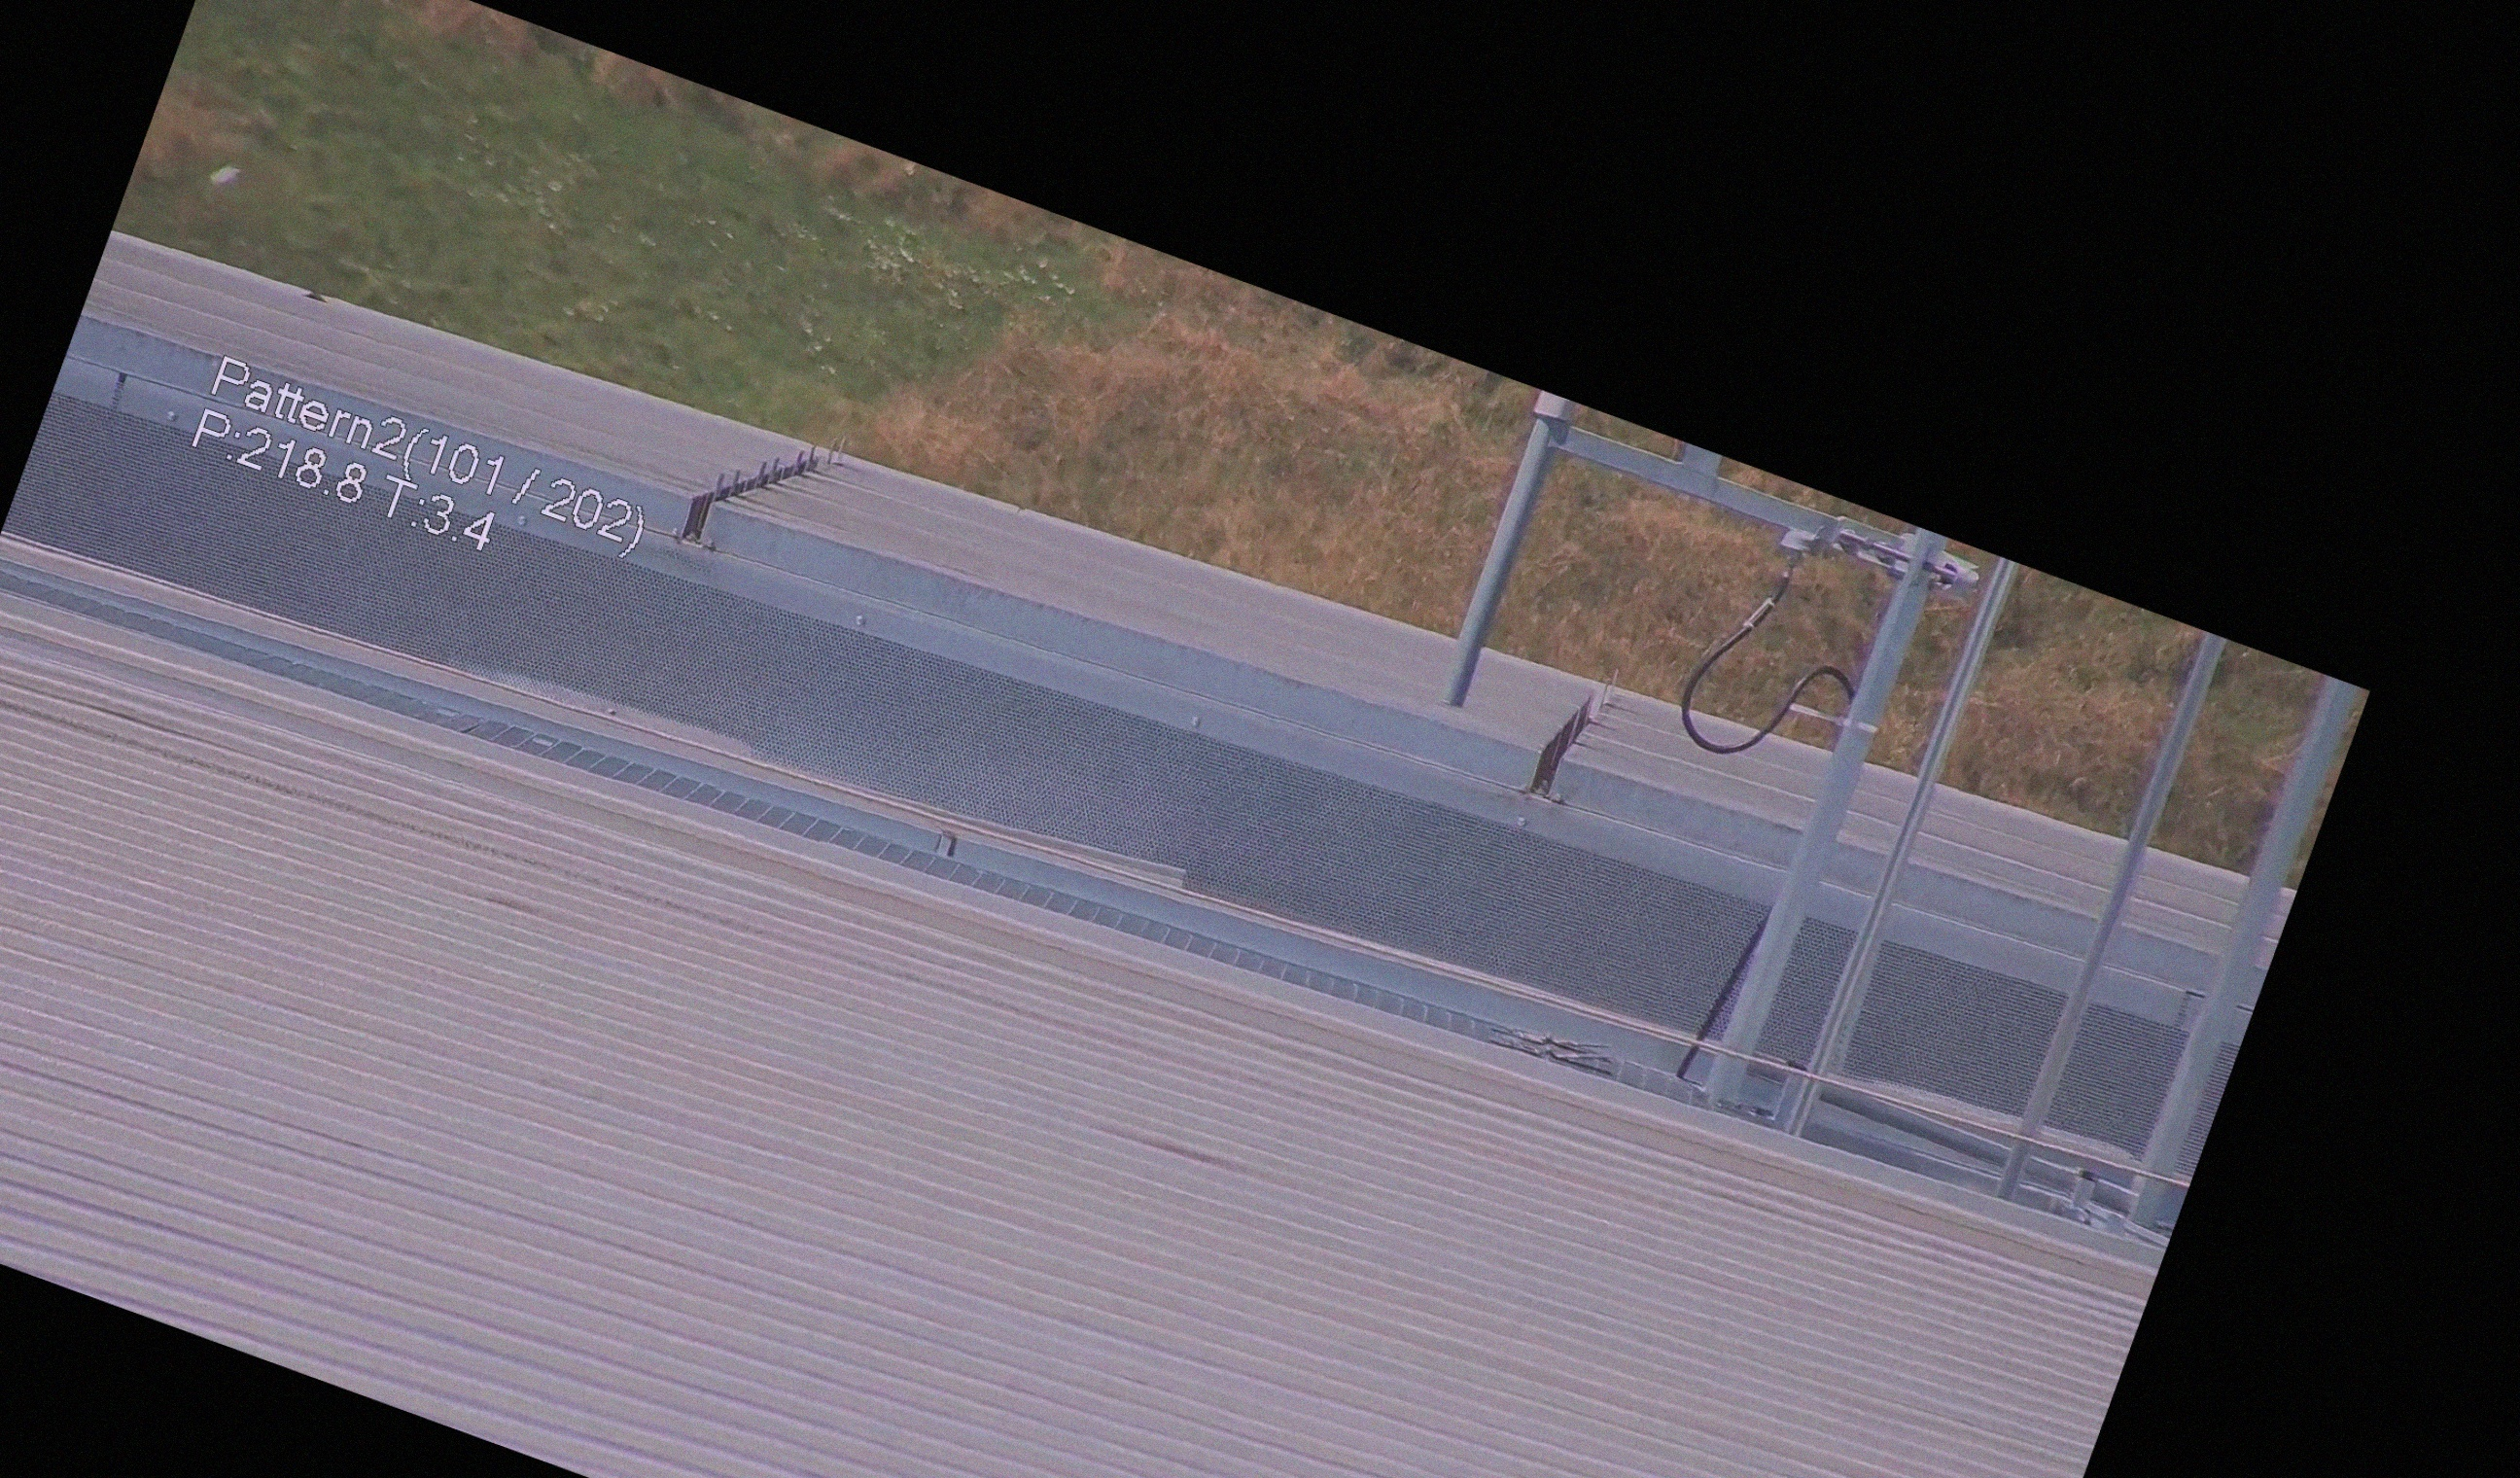Other: (1519, 667, 1632, 816)
